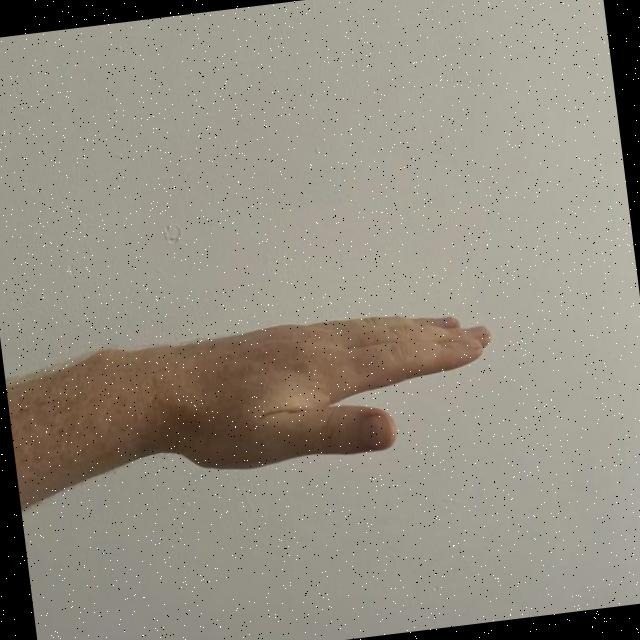papper: (139, 296, 504, 484)
